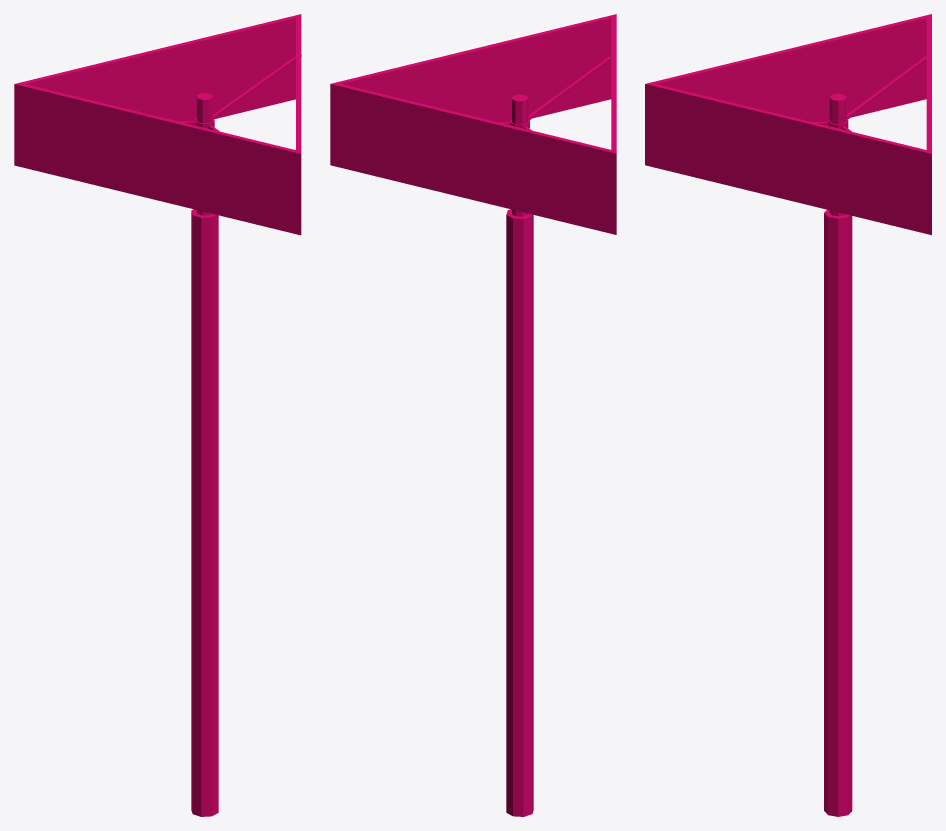
The model's file is Commercials_Bilboard_03_Lod0.fbx.
The picture shows the model from 3 angles, left to right: view 1: azimuth 30°, elevation 25°; view 2: azimuth 150°, elevation 25°; view 3: azimuth 270°, elevation 25°; orthographic projection.
Visible parts, largest first — view 1: Commercials_Bilboard_03_Lod0; view 2: Commercials_Bilboard_03_Lod0; view 3: Commercials_Bilboard_03_Lod0.
Boxes of the visible parts, x1,y1,x2,y2 form: Commercials_Bilboard_03_Lod0: (14, 14, 301, 816); Commercials_Bilboard_03_Lod0: (330, 14, 616, 816); Commercials_Bilboard_03_Lod0: (645, 14, 931, 816).
Bounding box in the file's own units: 372 × 901 × 322.
